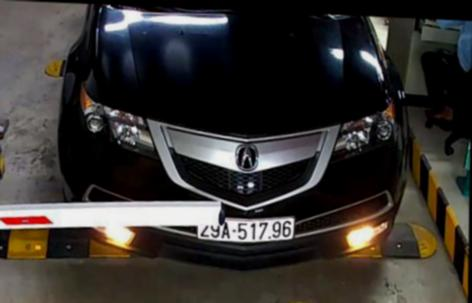License_Plate: (191, 210, 300, 248)
